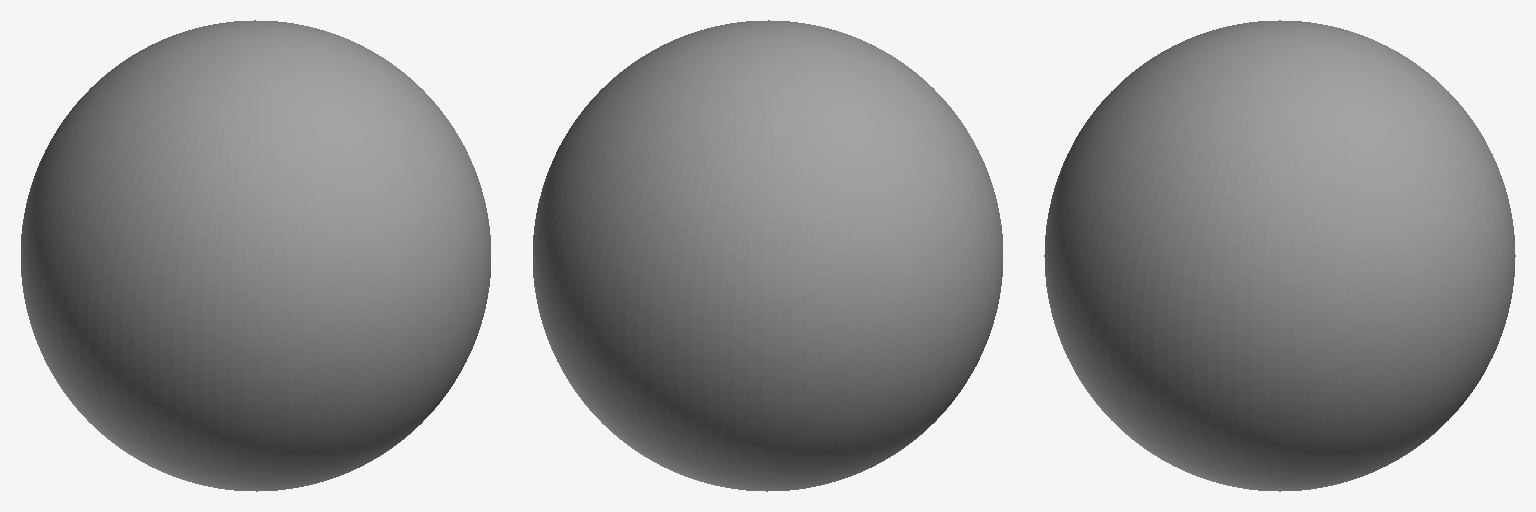
The model's file is poolball.obj.
The picture shows the model from 3 angles: view 1: azimuth 30°, elevation 25°; view 2: azimuth 150°, elevation 25°; view 3: azimuth 270°, elevation 25°; orthographic projection.
Parts seen in each view (by area): view 1: Sphere.001; view 2: Sphere.001; view 3: Sphere.001.
Boxes of the visible parts, x1,y1,x2,y2 form: Sphere.001: [21, 20, 490, 491]; Sphere.001: [533, 20, 1002, 491]; Sphere.001: [1044, 20, 1515, 491].
Size of the model in its own units: 0.462 by 0.462 by 0.462.